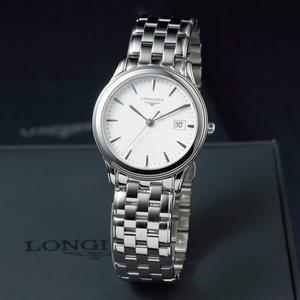watch: (88, 11, 219, 283)
